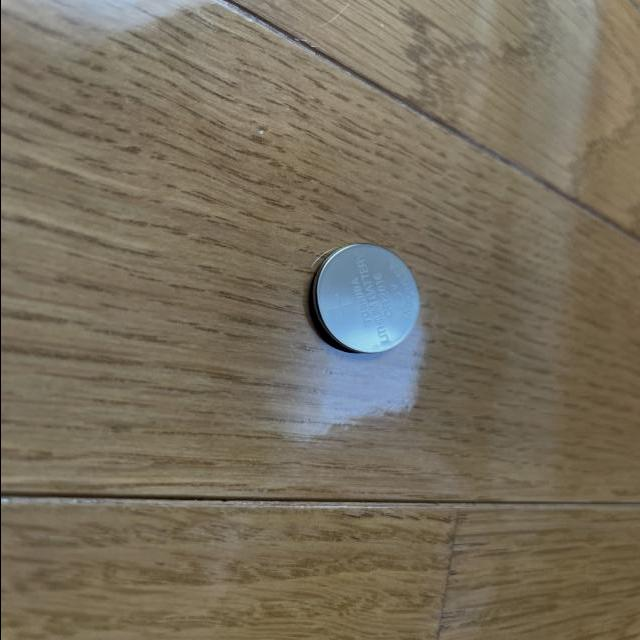COIN: (301, 240, 423, 358)
